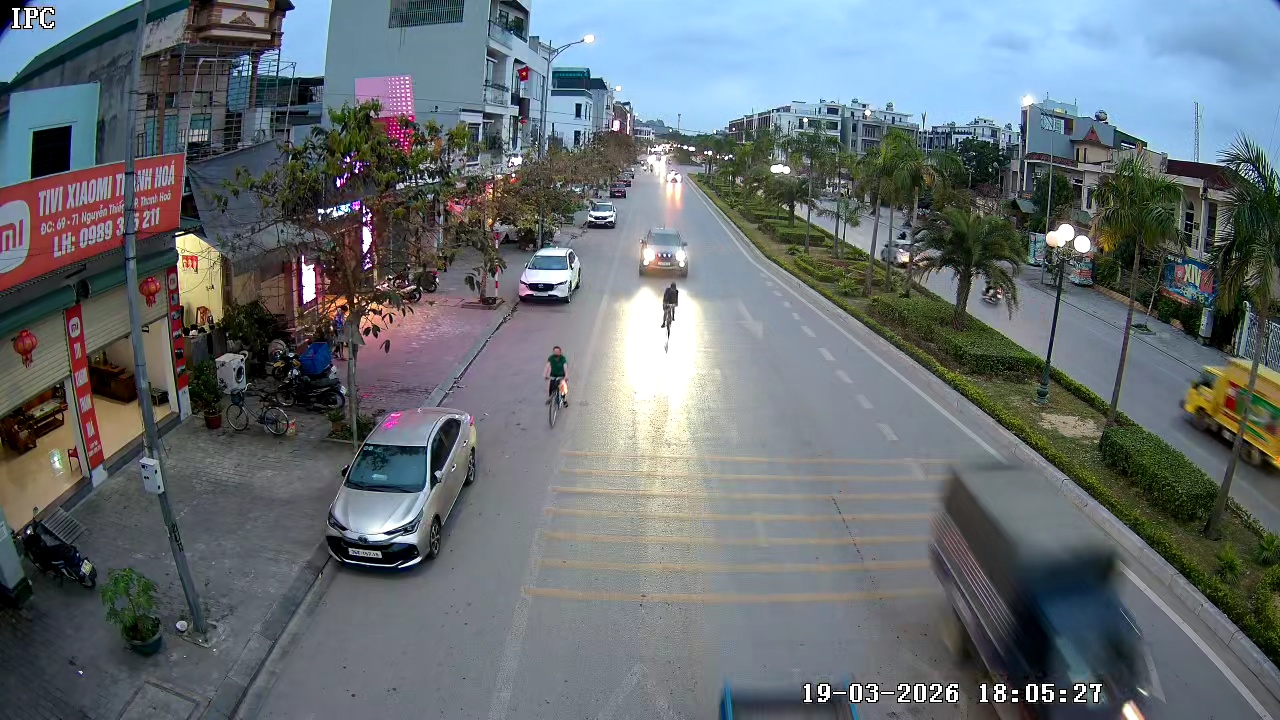bike: (541, 344, 573, 431), (659, 279, 684, 347)
car: (324, 406, 478, 573), (517, 246, 582, 304), (637, 225, 691, 279), (584, 198, 620, 229)
